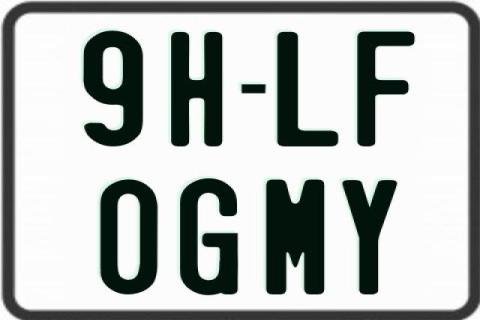0: (98, 178, 162, 294), (80, 28, 142, 146)
F: (356, 29, 416, 147)
G: (180, 177, 243, 296)
H: (170, 29, 225, 149)
L: (274, 32, 338, 146)
M: (265, 178, 323, 296)
Y: (342, 180, 397, 298)
